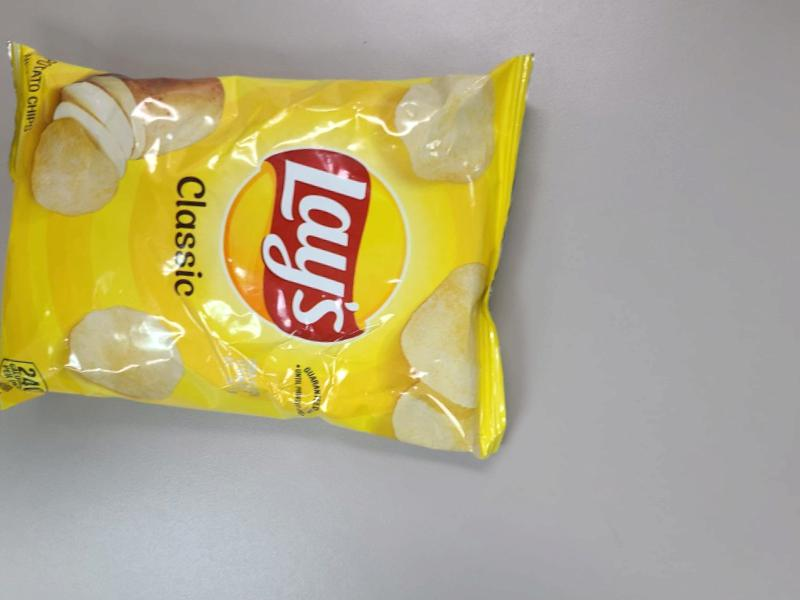lays: (62, 0, 518, 438)
